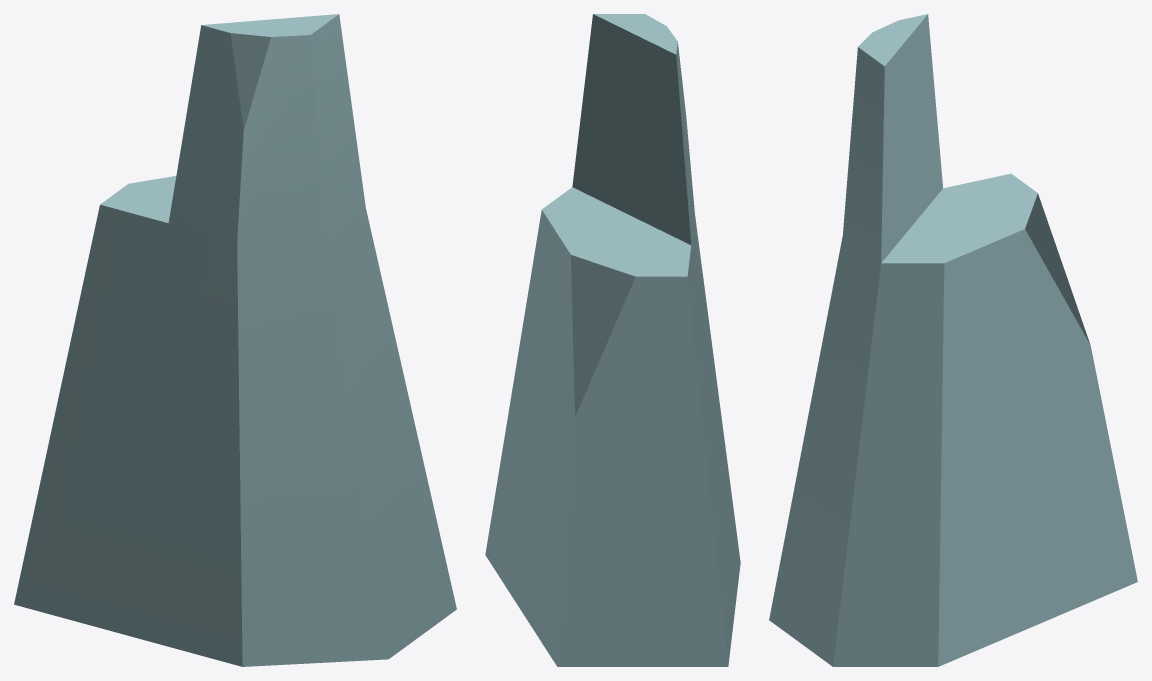
The model's file is stone_tall4.obj.
3 renders of one model, left to right at view 1: azimuth 30°, elevation 25°; view 2: azimuth 150°, elevation 25°; view 3: azimuth 270°, elevation 25°, orthographic. The views are drawn at different scales.
Parts seen in each view (by area): view 1: stone_tall4; view 2: stone_tall4; view 3: stone_tall4.
Part boxes in pixels (left/top/right/bottom): stone_tall4: left=14, top=14, right=456, bottom=666; stone_tall4: left=485, top=14, right=740, bottom=666; stone_tall4: left=769, top=14, right=1137, bottom=666.
Size of the model in its own units: 4.43 by 7.72 by 4.61.
